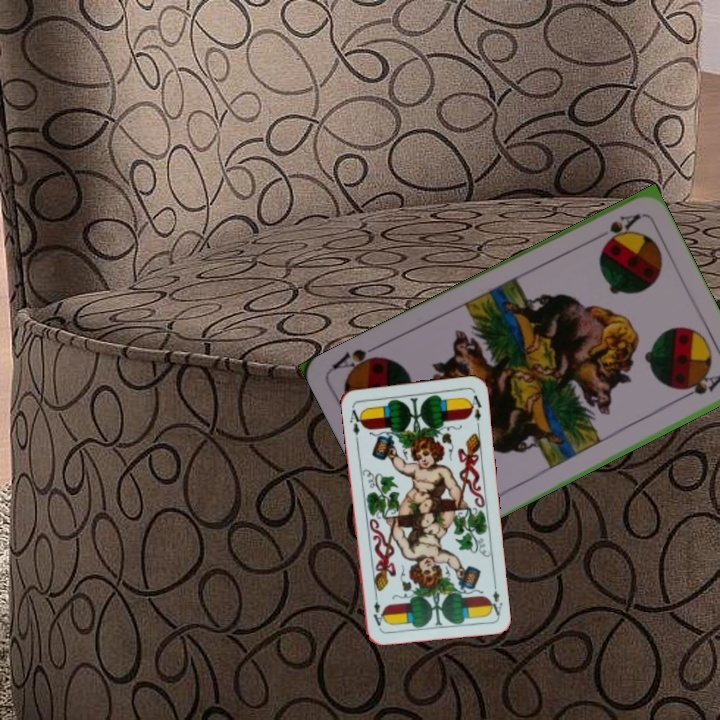EA: (345, 402, 366, 443), (484, 577, 505, 618)
SA: (588, 209, 643, 247)
